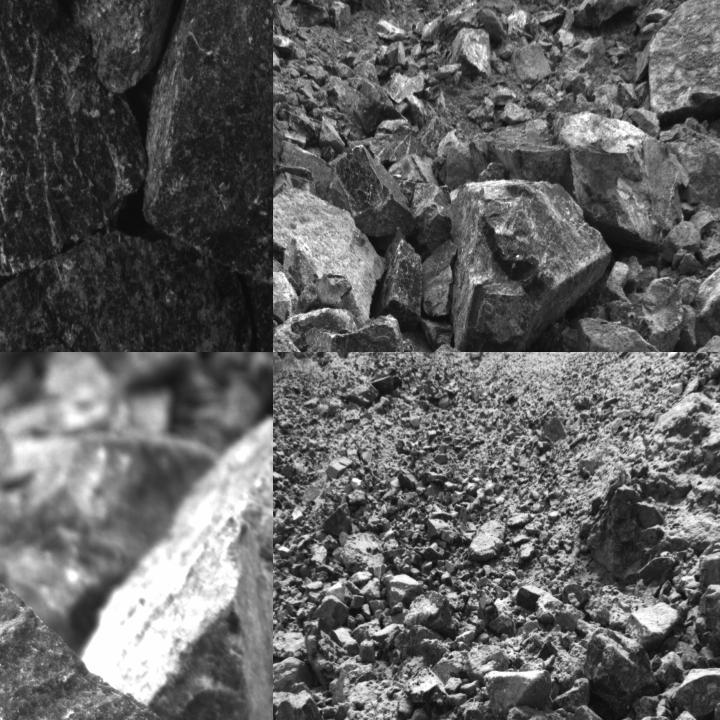stone: (0, 352, 241, 719), (0, 0, 144, 287), (141, 0, 272, 292), (0, 230, 247, 351), (450, 176, 609, 351), (553, 112, 689, 252), (42, 0, 192, 90), (273, 185, 374, 317), (648, 0, 719, 127), (337, 144, 413, 246), (586, 631, 658, 718), (348, 116, 452, 164), (378, 233, 422, 332), (348, 62, 409, 132), (306, 314, 414, 351), (482, 670, 556, 719), (572, 318, 679, 351), (398, 181, 454, 244), (694, 207, 719, 348), (403, 588, 460, 638), (573, 0, 669, 29), (625, 599, 680, 647), (421, 241, 456, 316), (422, 2, 480, 45), (672, 665, 719, 717), (449, 28, 491, 78), (697, 585, 719, 666), (385, 572, 425, 612), (470, 516, 506, 560), (26, 0, 78, 29), (273, 689, 323, 719), (273, 657, 312, 693), (273, 0, 362, 15), (388, 70, 424, 103), (338, 0, 400, 15)
